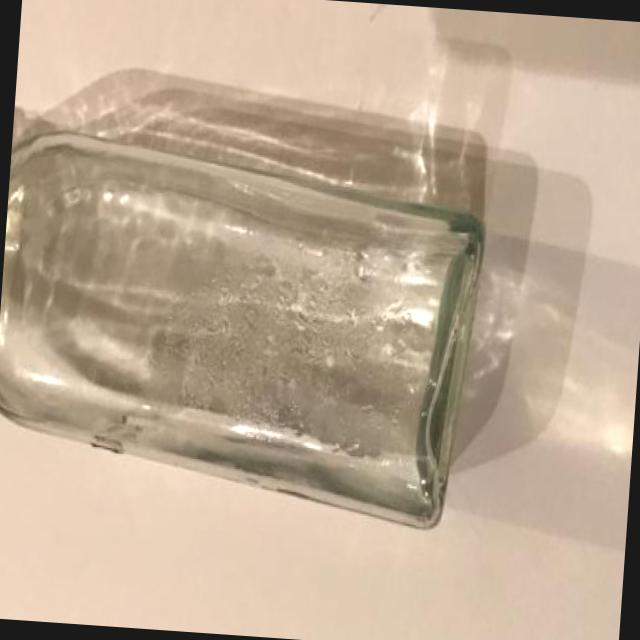chai_thuy_tinh: (0, 134, 483, 531)
